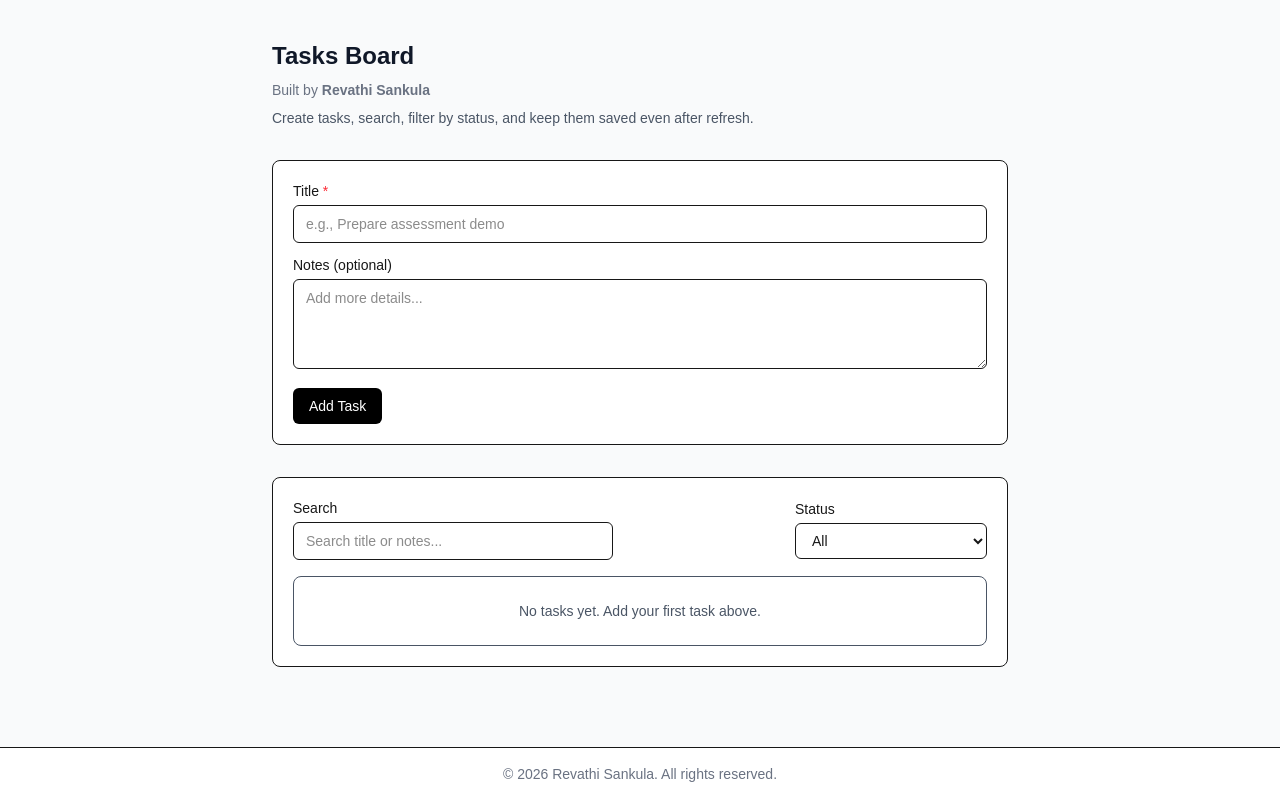
it: Tasks Board workflow › shows validation error when title is too short
The image size is (1280, 800).
Type "A" into the field labelled "Title *" at (640, 224), box x1=293 y1=205 x2=987 y2=243
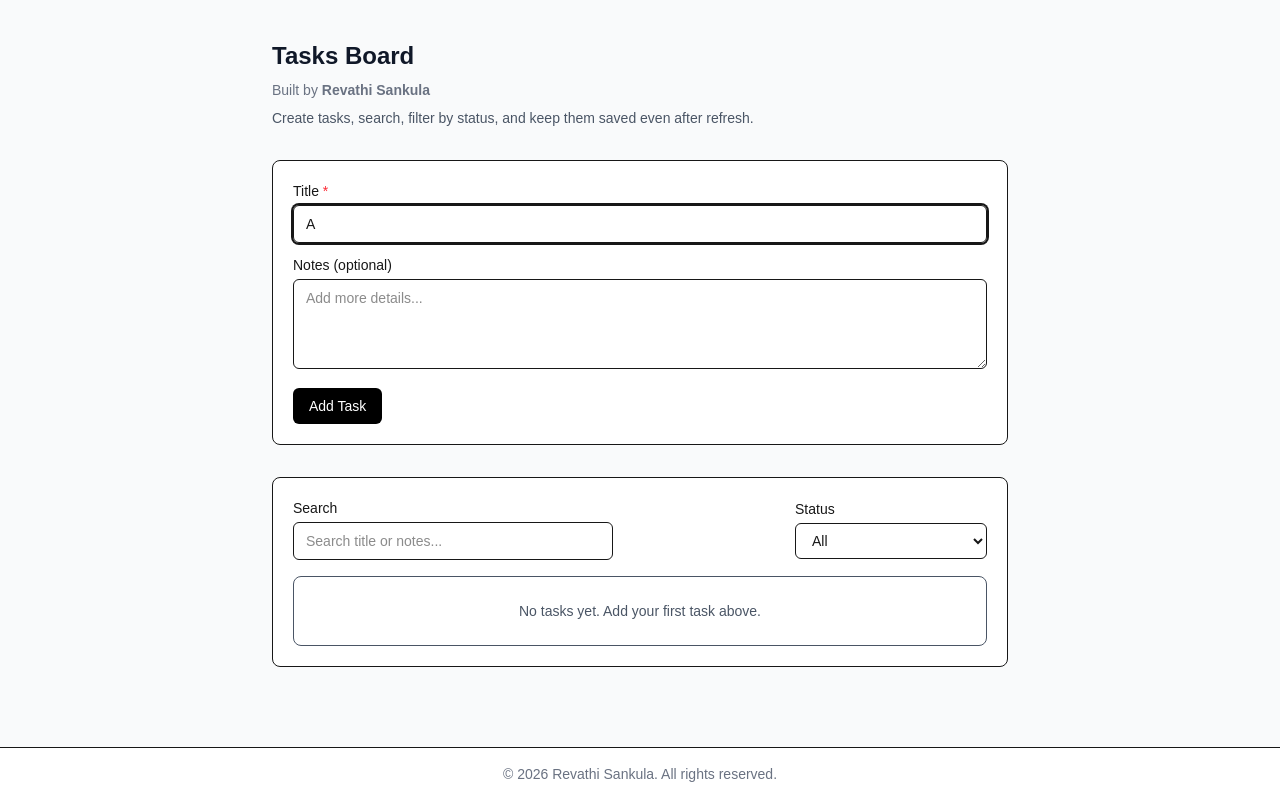
Click the button "Add Task" at (338, 406), box x1=293 y1=388 x2=382 y2=424
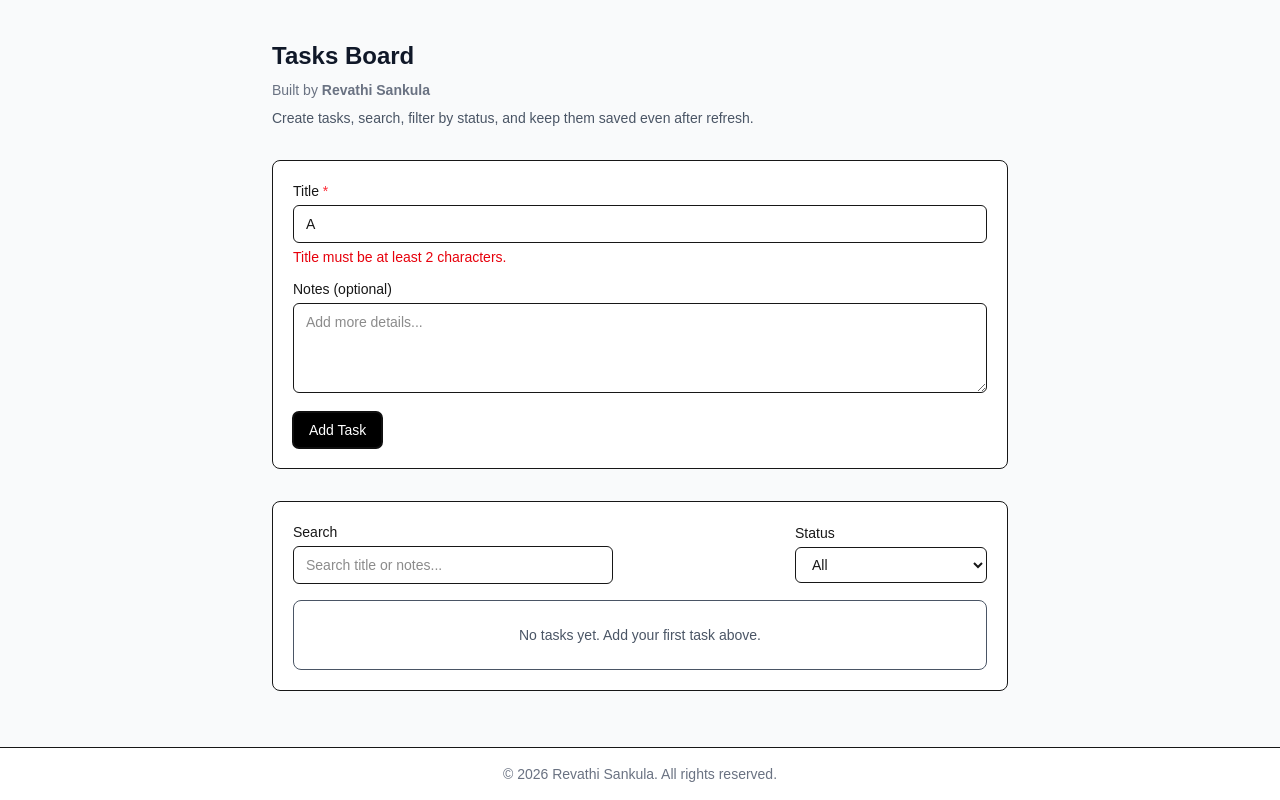
Expected: the text "Title must be at least 2 characters." is shown, x1=293 y1=249 x2=506 y2=265
